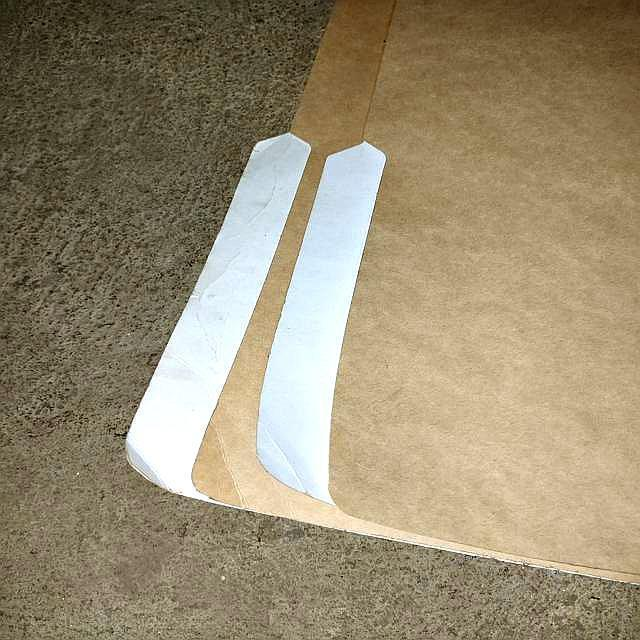Biodegradable: (102, 1, 640, 590)
